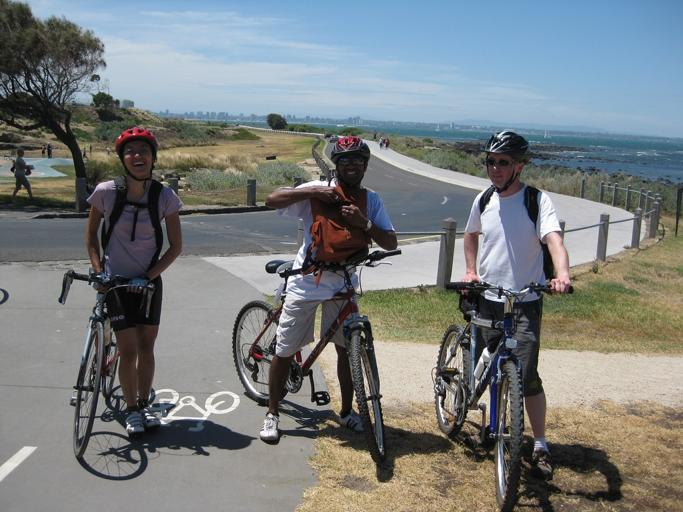non-vehicle: (231, 249, 399, 464), (431, 280, 573, 510), (56, 258, 155, 458)
